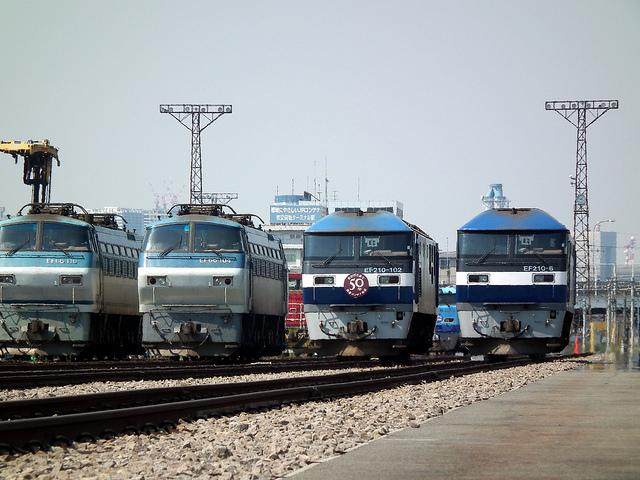Train: (135, 203, 289, 359), (301, 207, 441, 360), (0, 203, 144, 345), (456, 207, 581, 362)
